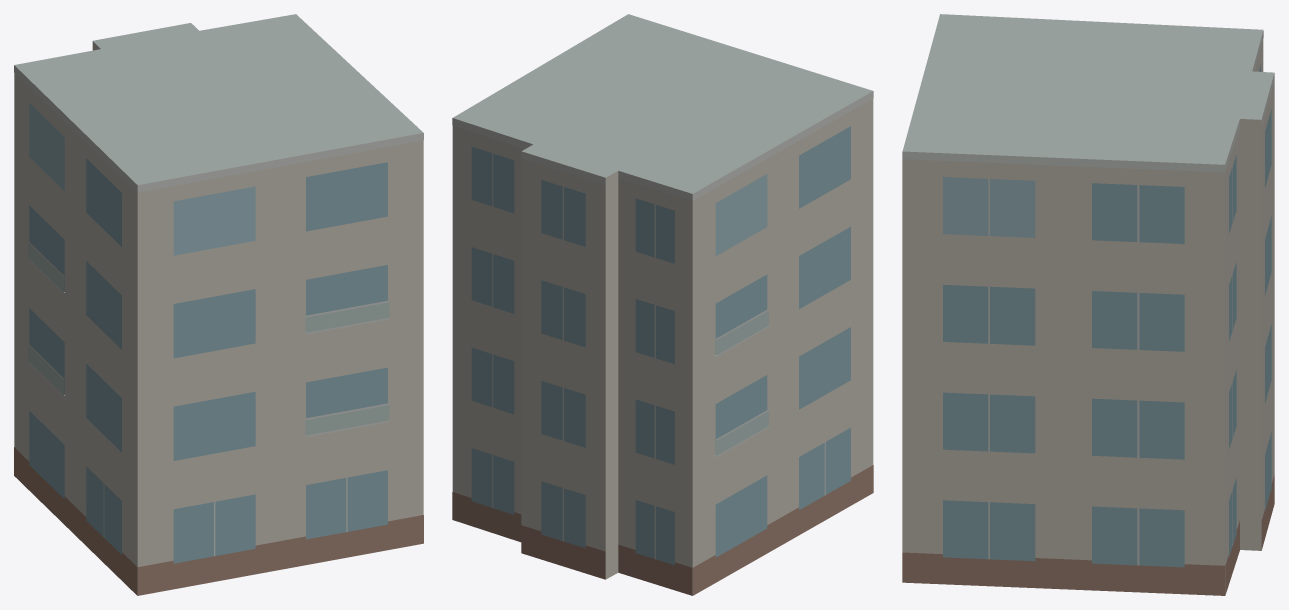
Rendered from survey-upis-32826614.glb.
3 views of the same model, side by side, from view 1: azimuth 30°, elevation 25°; view 2: azimuth 150°, elevation 25°; view 3: azimuth 270°, elevation 25° (orthographic). The views are drawn at different scales.
Parts seen in each view (by area): view 1: survey-upis-32826614.tmp; view 2: survey-upis-32826614.tmp; view 3: survey-upis-32826614.tmp.
Part boxes in pixels (bbox=[...]): survey-upis-32826614.tmp: bbox=[14, 14, 423, 595]; survey-upis-32826614.tmp: bbox=[452, 14, 873, 595]; survey-upis-32826614.tmp: bbox=[902, 14, 1274, 595].
Size of the model in its own units: 10.13 by 13.5 by 10.57.
